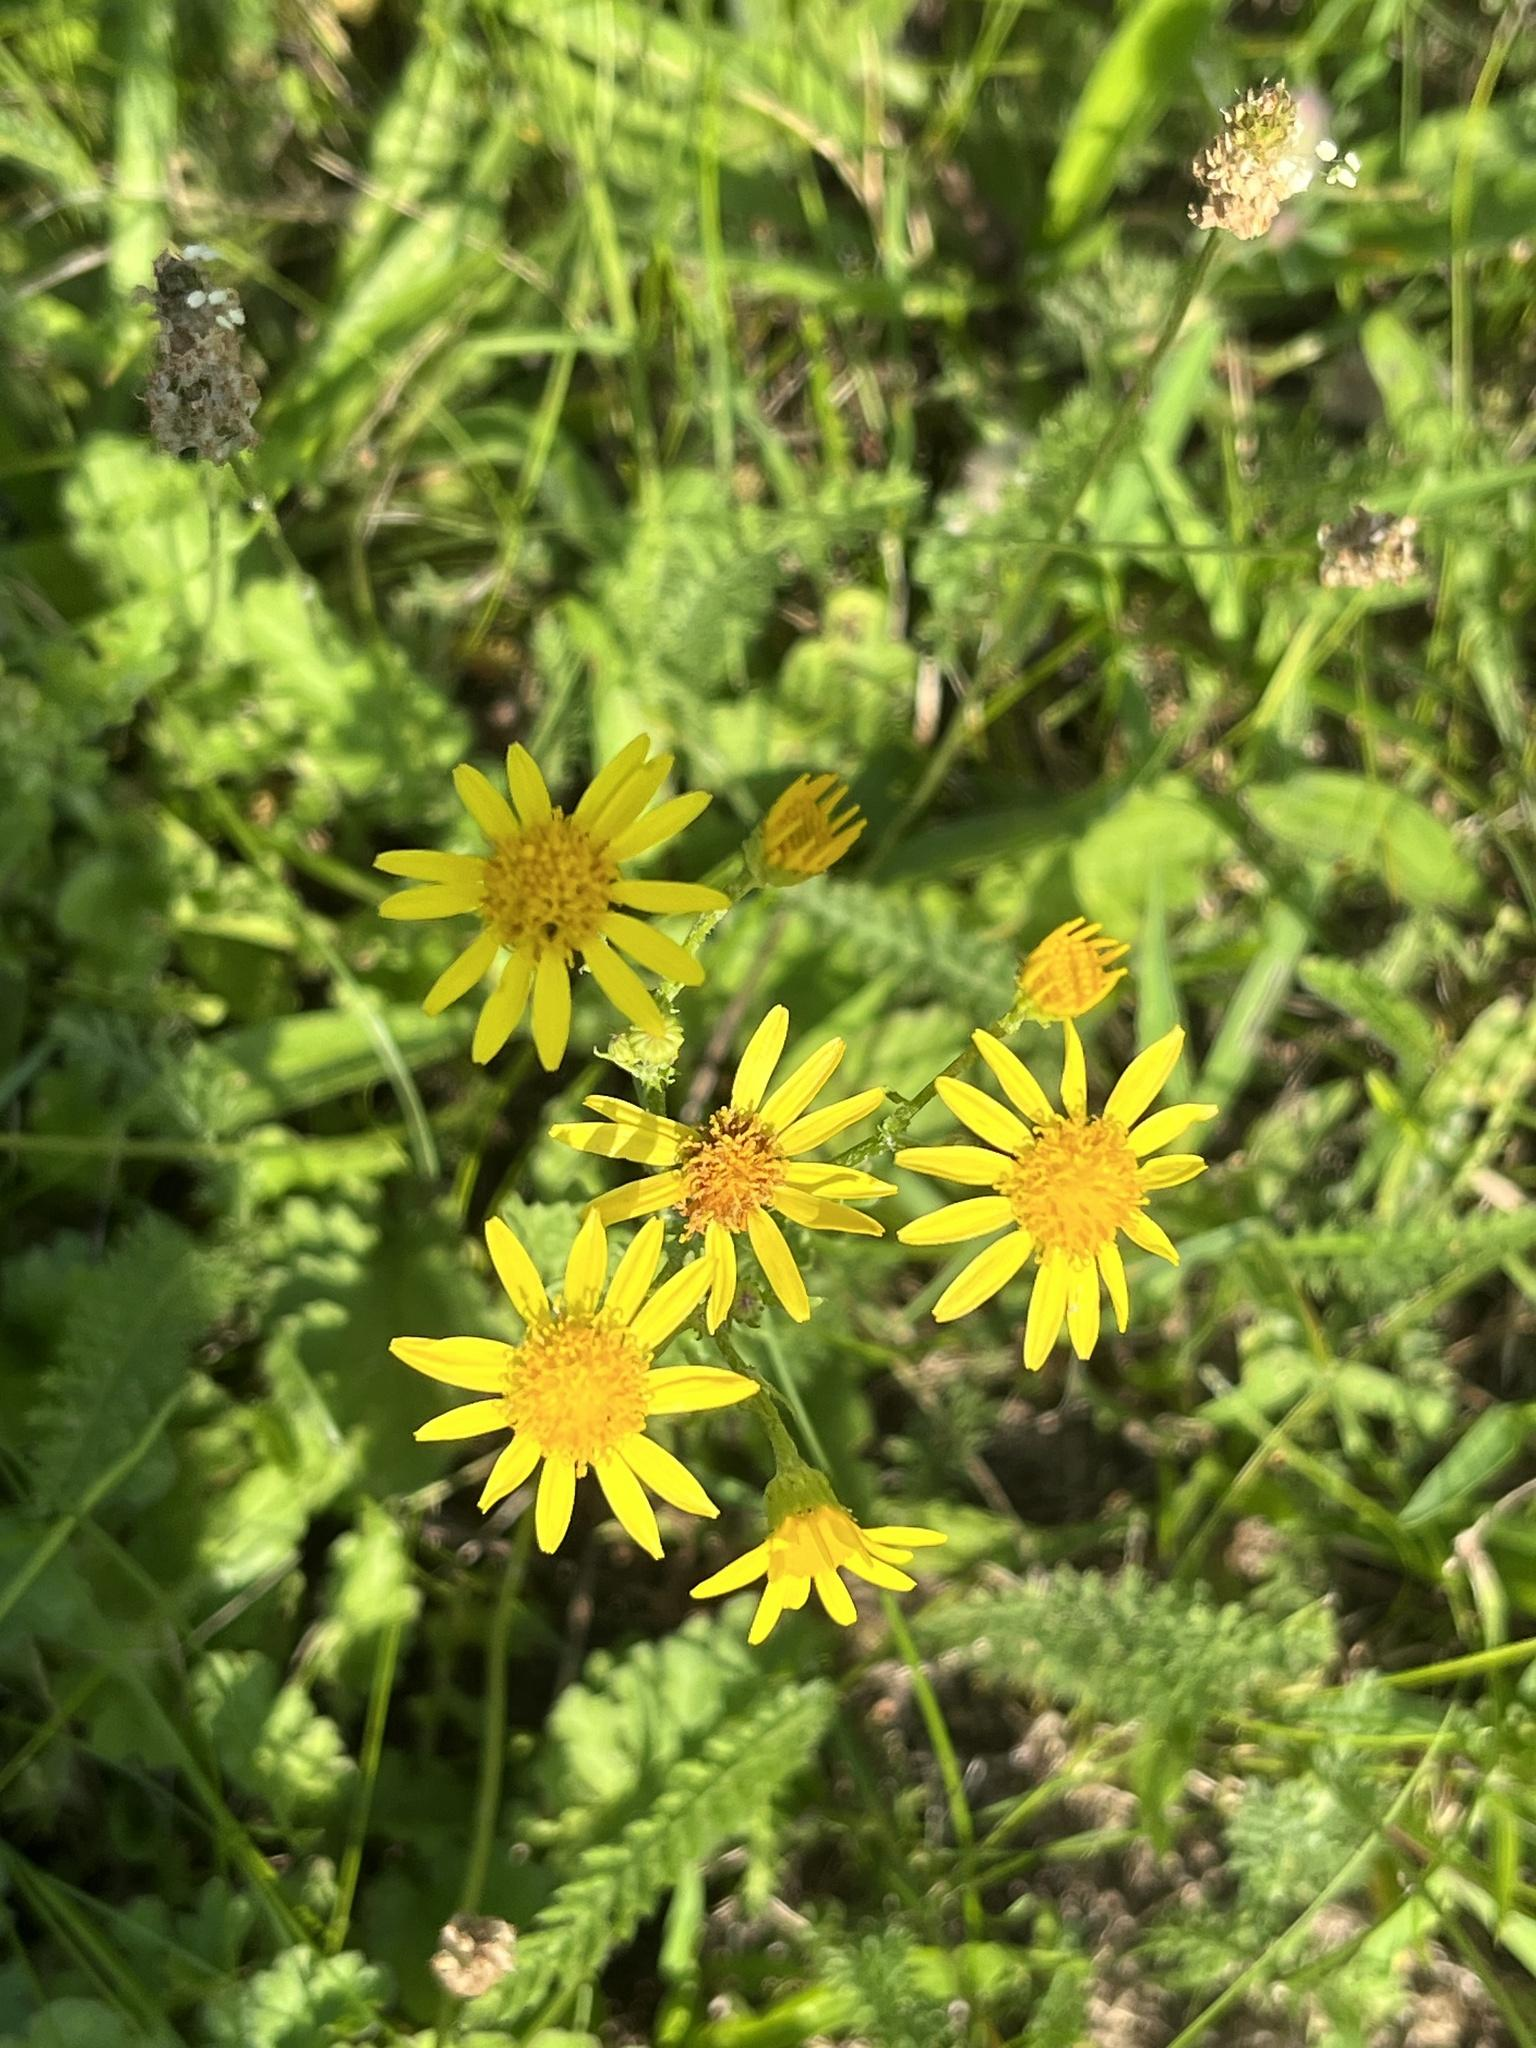Jacobaea vulgaris: (269, 697, 1354, 1743)
